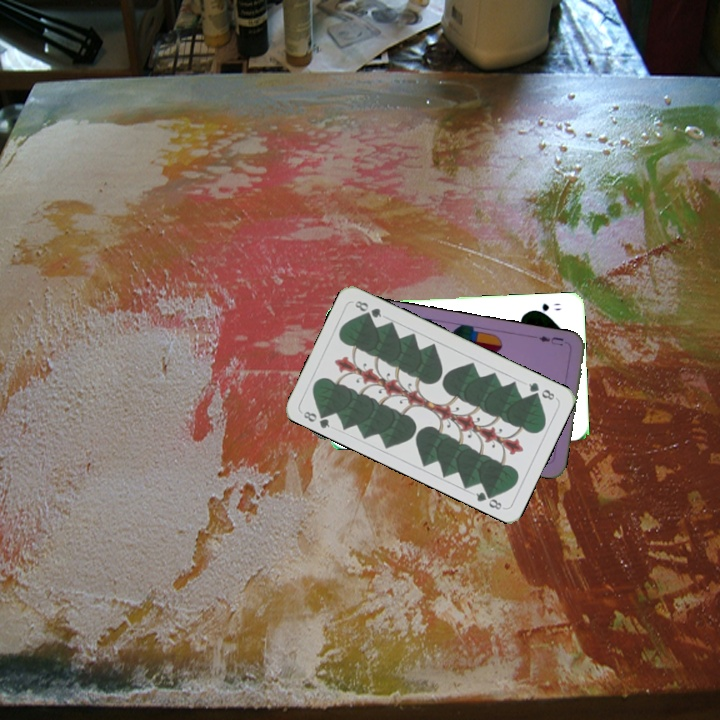EU: (535, 332, 566, 348)
G8: (524, 378, 558, 403), (299, 406, 332, 431)
GO: (528, 299, 564, 316)
